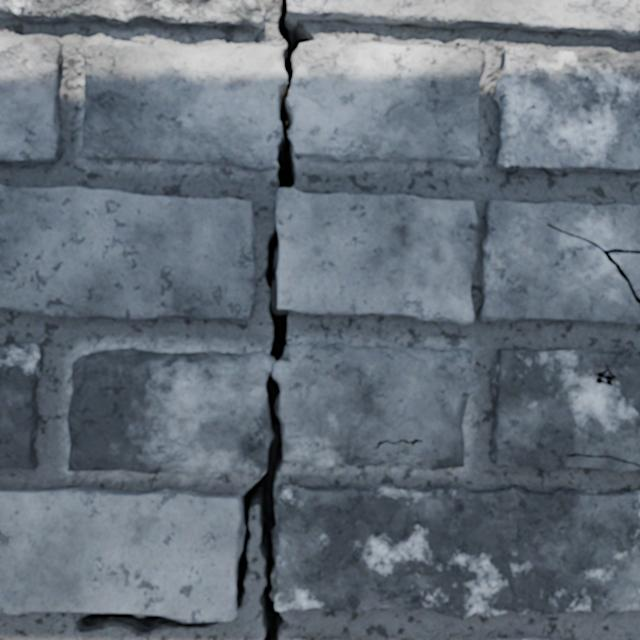broken_brick: (67, 344, 473, 476), (83, 40, 286, 171), (287, 36, 485, 165), (467, 42, 484, 51), (439, 43, 455, 45)
crack: (0, 372, 639, 639), (264, 0, 639, 361), (0, 184, 255, 320), (478, 200, 639, 325), (493, 46, 639, 174), (489, 349, 639, 472), (0, 0, 265, 31), (0, 34, 62, 162), (0, 342, 42, 469), (432, 41, 485, 53), (373, 439, 423, 448), (135, 158, 220, 162), (382, 151, 447, 155), (492, 636, 558, 639), (293, 637, 304, 639)
